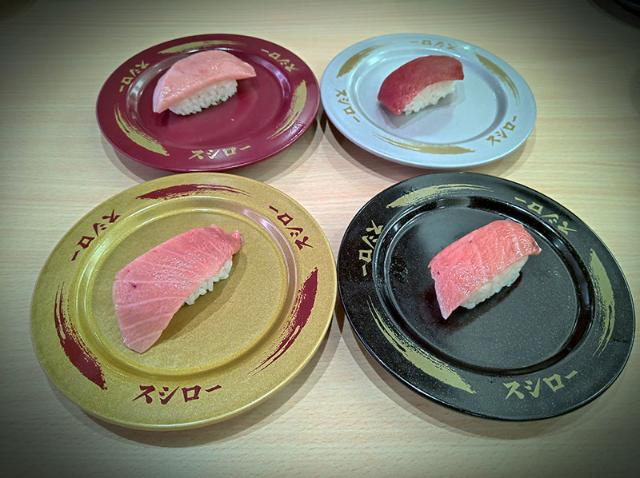janback: (359, 191, 608, 418)
jangold: (71, 177, 334, 385)
janred: (122, 18, 319, 184)
janwhite: (327, 23, 522, 177)
